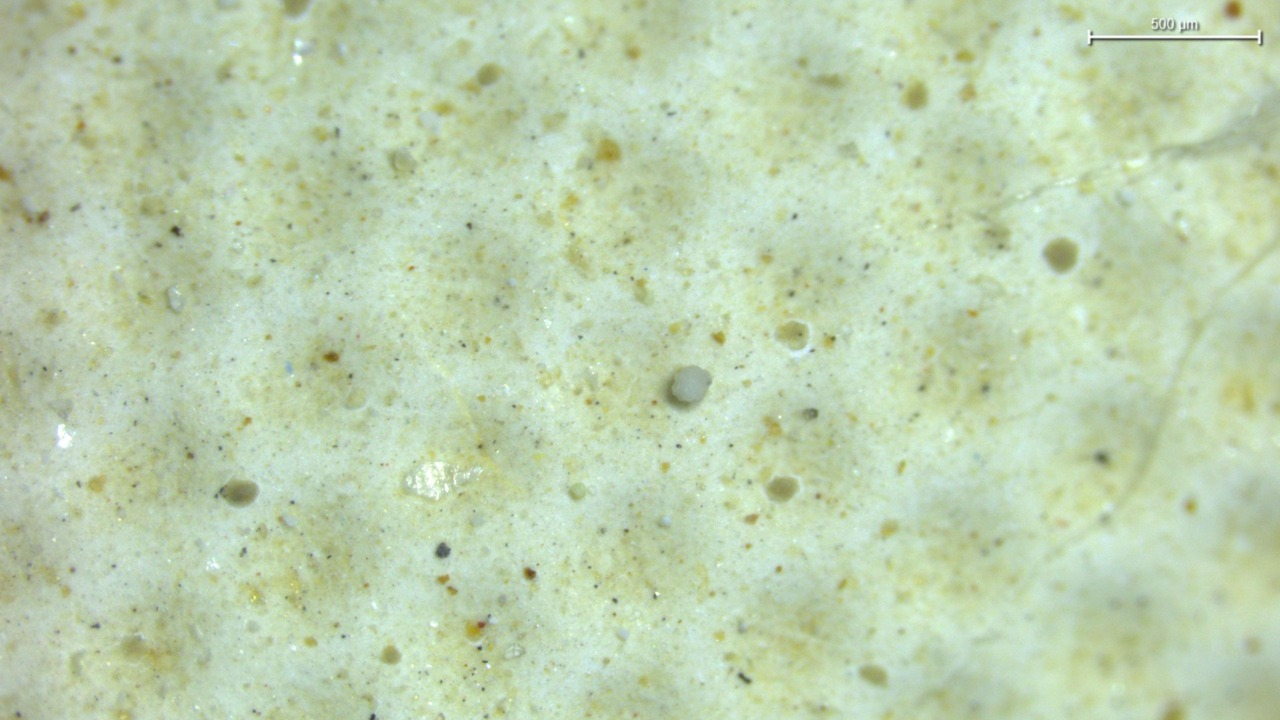microplastic_fragment: (670, 366, 711, 403)
